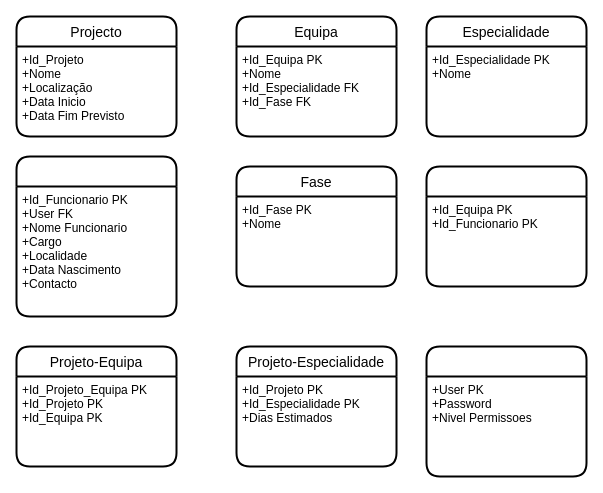
This 603x493 diagram has some shape labels left out. Here are the shapes that lost their labels. From the top down, the box of each, then its label:
(15, 155, 177, 317): Funcionário
(425, 165, 587, 287): Funcionario-Equipa
(425, 345, 587, 477): Login
